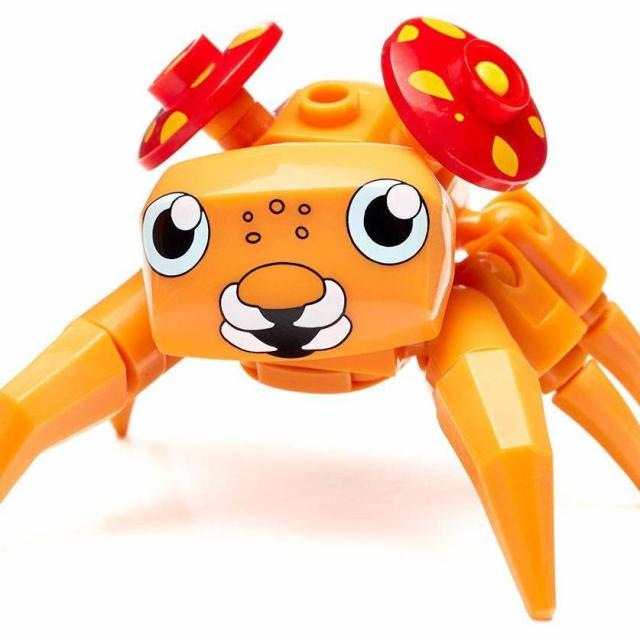Paras: (9, 18, 592, 450)
